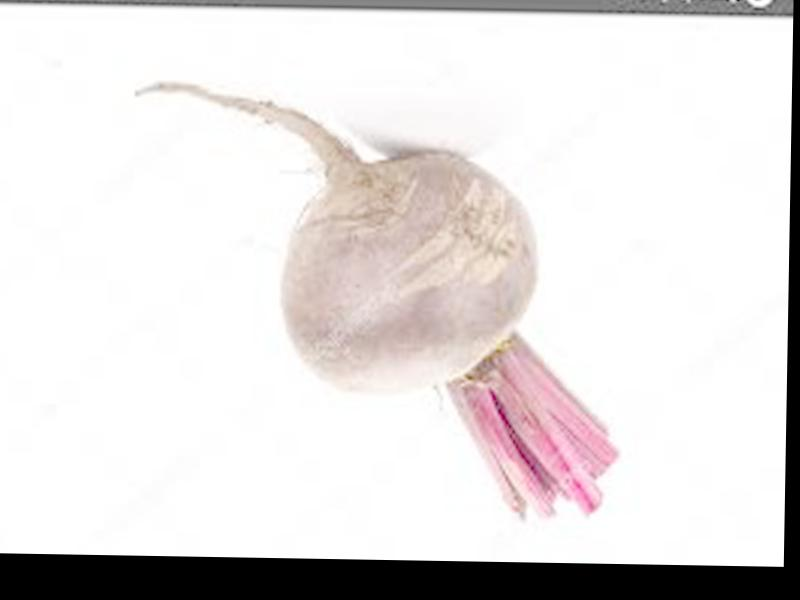Beet: (127, 83, 621, 519)
